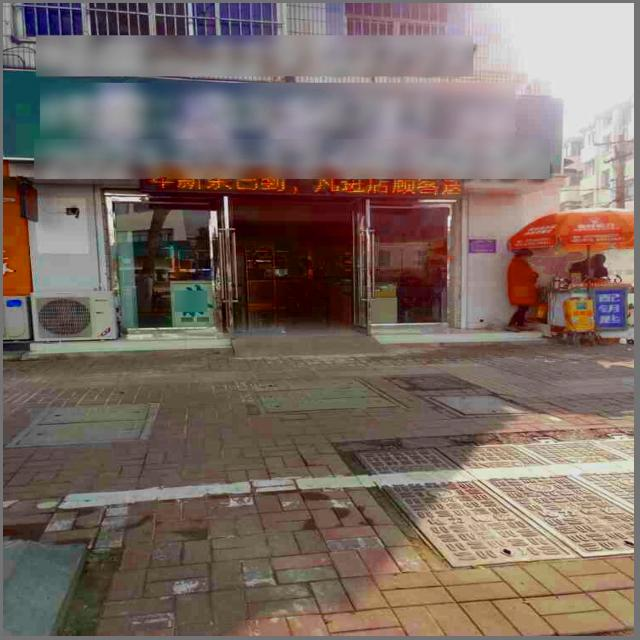good: (335, 432, 634, 567), (243, 374, 411, 413), (3, 403, 158, 444)
